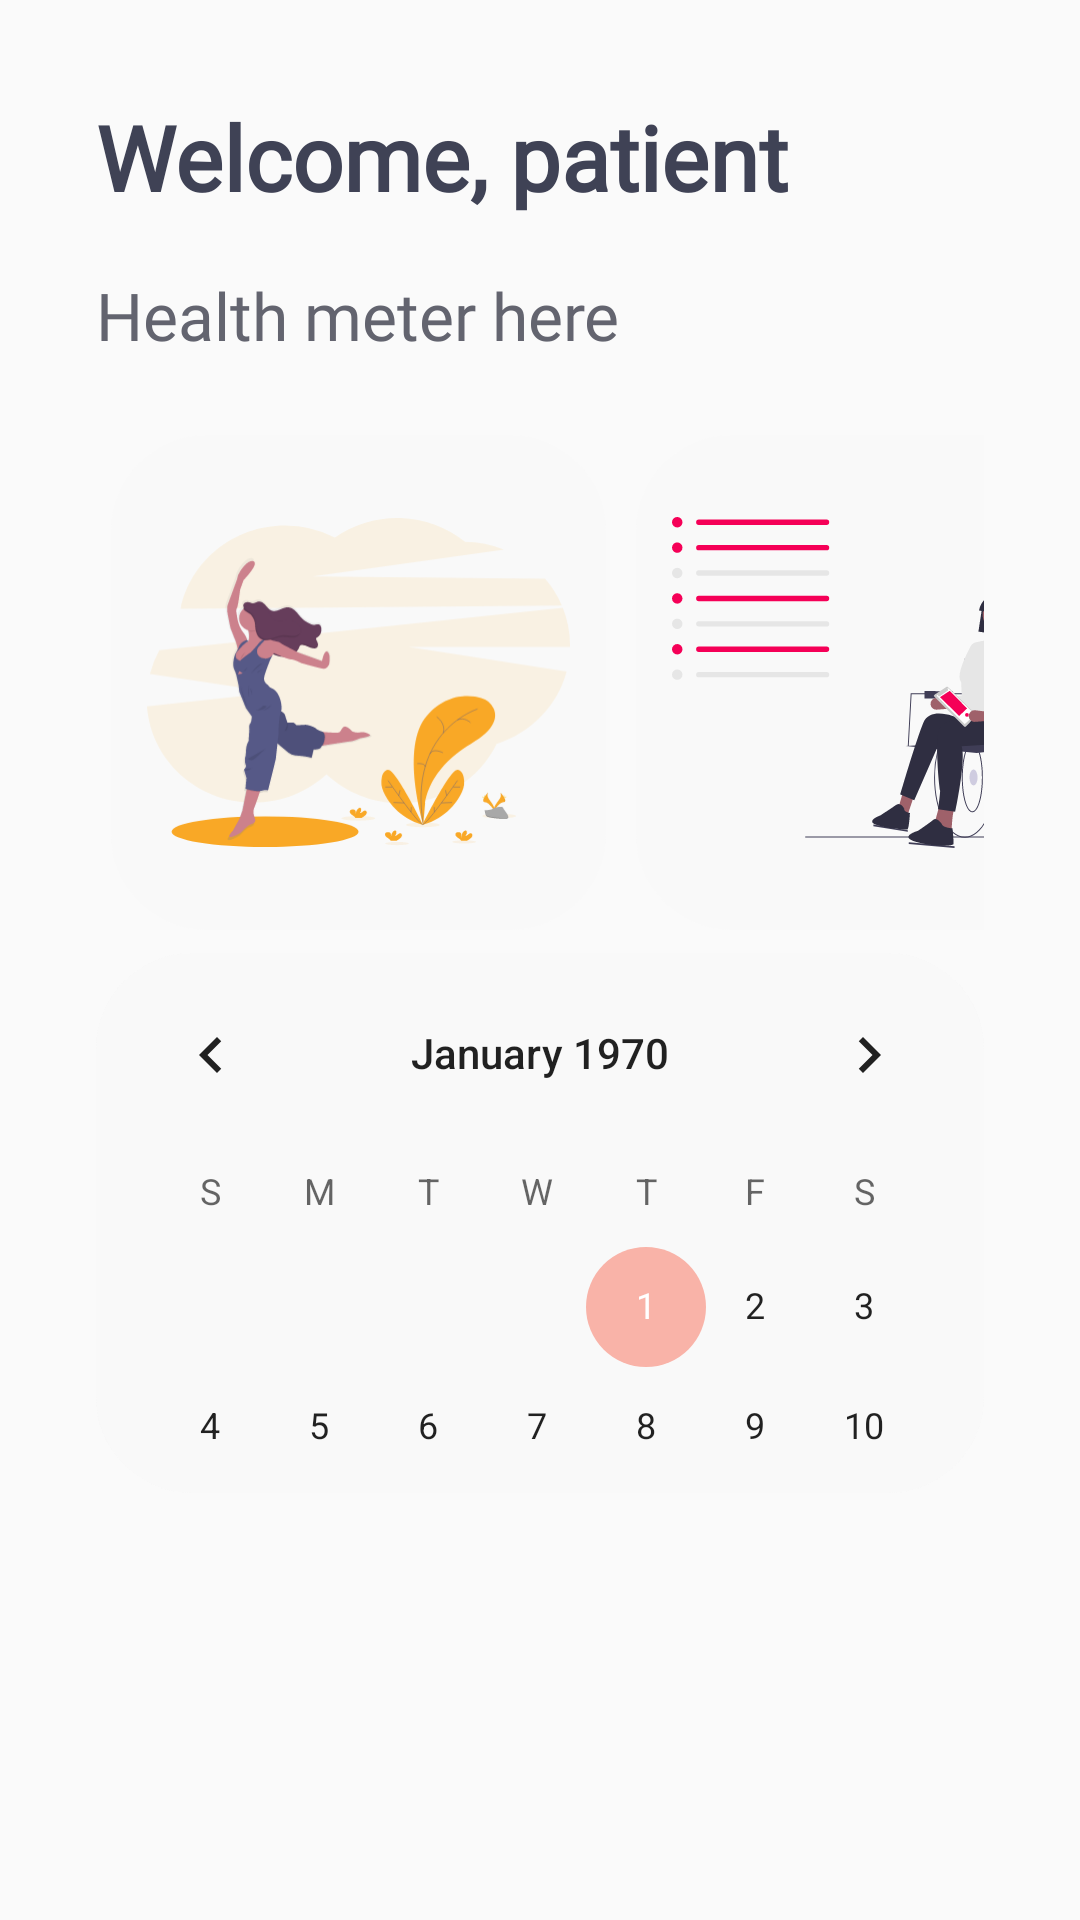

Where to tap for icons on this 1080×1920 app screen, as [x,y]:
workout picture: [340,702]
